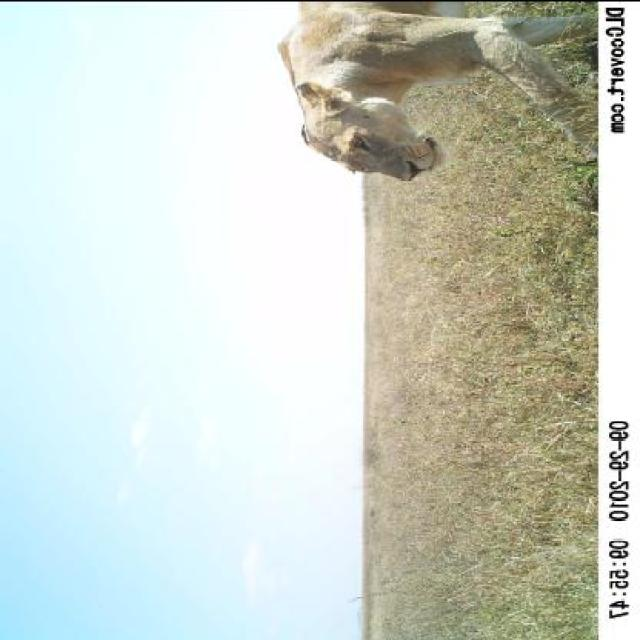Lion: (249, 10, 597, 218)
